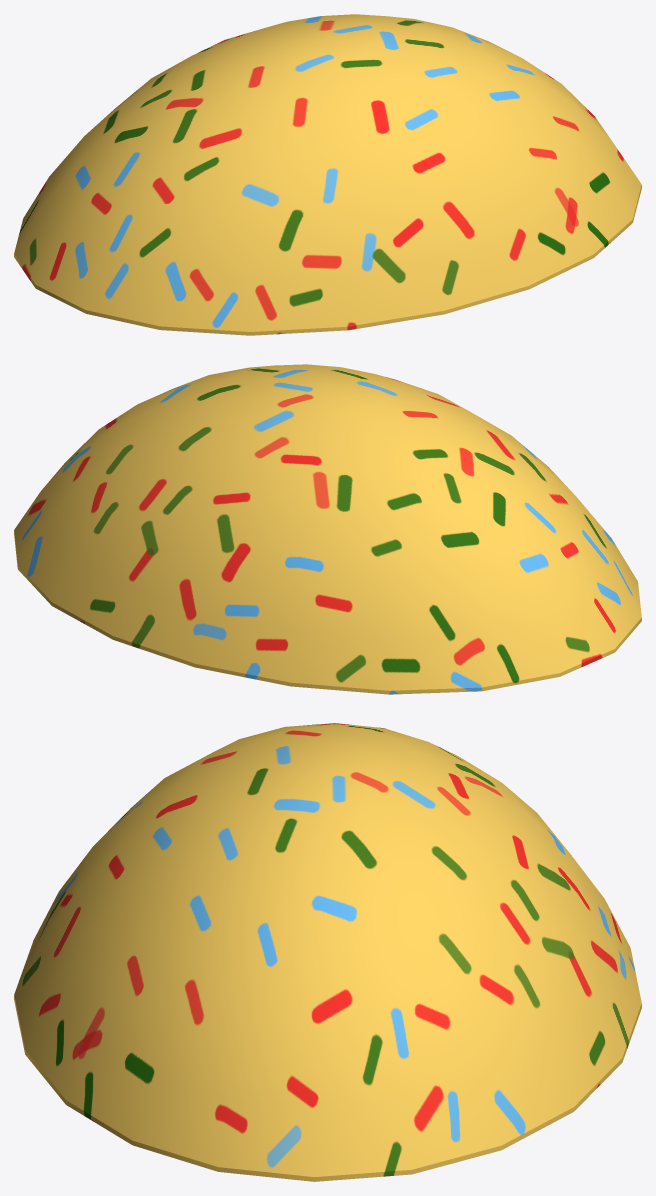
File: OBS0110032.fbx
3 views of the same model, one above another, from view 1: azimuth 30°, elevation 25°; view 2: azimuth 150°, elevation 25°; view 3: azimuth 270°, elevation 25° (orthographic). The views are drawn at different scales.
Visible parts, largest first — view 1: smOBS0110032; view 2: smOBS0110032; view 3: smOBS0110032.
Part boxes in pixels (box(x1,y1,x2,y2)): smOBS0110032: box(14, 14, 641, 335); smOBS0110032: box(14, 364, 641, 694); smOBS0110032: box(14, 723, 641, 1181).
Size of the model in its own units: 176 by 54.37 by 131.
Materials: 1 (1 with a texture image).
